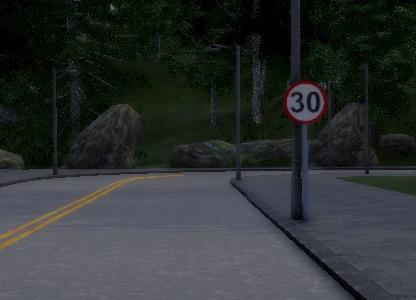Speed_30: (280, 79, 330, 125)
